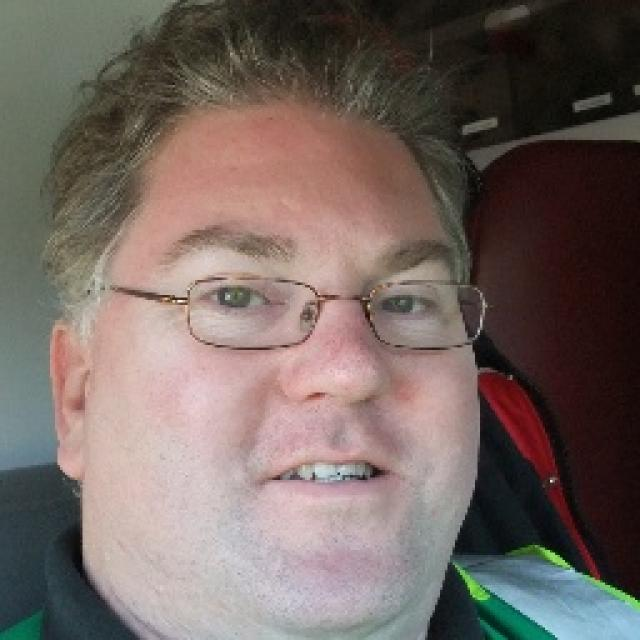earlobe: (46, 320, 87, 482)
